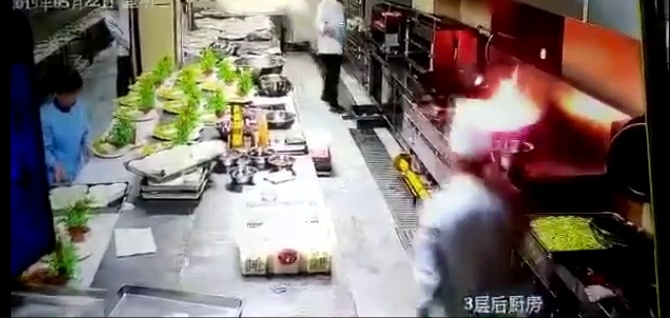fire: (474, 70, 544, 131)
